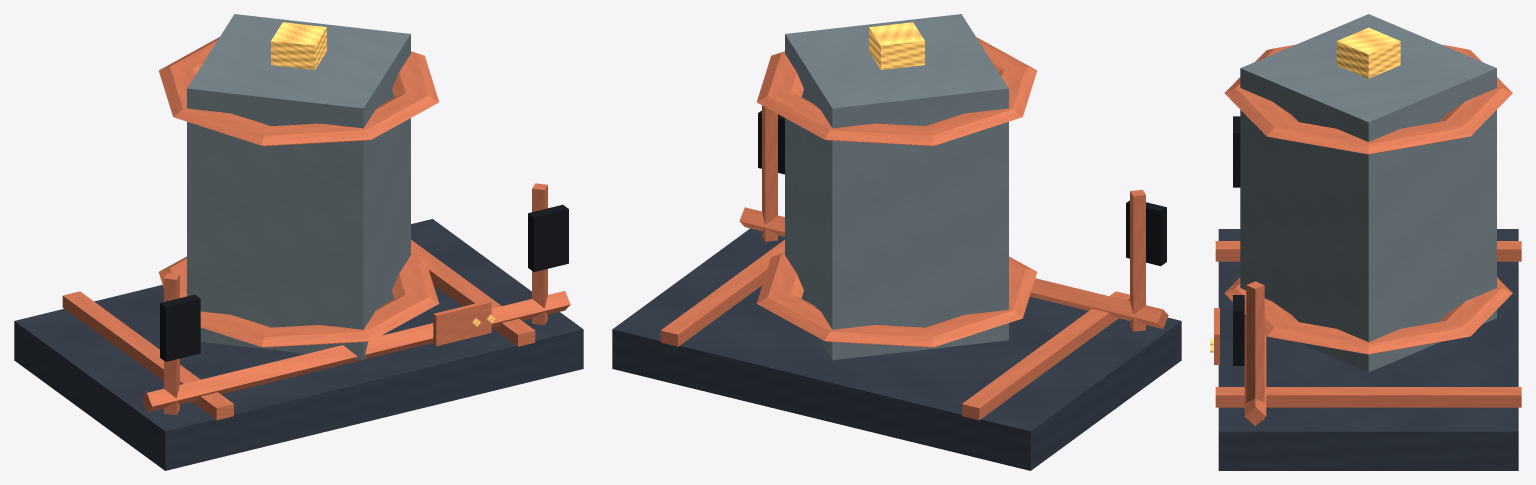
Rendered from atlas100-s021-a06.lod1.glb.
The picture shows the model from 3 angles, left to right: view 1: azimuth 30°, elevation 25°; view 2: azimuth 150°, elevation 25°; view 3: azimuth 270°, elevation 25°; orthographic projection.
Visible parts, largest first — view 1: atlas100-s021-a06:part-003, atlas100-s021-a06:part-000, atlas100-s021-a06:part-005, atlas100-s021-a06:part-004, atlas100-s021-a06:part-012, atlas100-s021-a06:part-001, atlas100-s021-a06:part-002, atlas100-s021-a06:part-009, atlas100-s021-a06:part-011, atlas100-s021-a06:part-006, atlas100-s021-a06:part-013, atlas100-s021-a06:part-008 (+1 smaller); view 2: atlas100-s021-a06:part-003, atlas100-s021-a06:part-000, atlas100-s021-a06:part-005, atlas100-s021-a06:part-004, atlas100-s021-a06:part-001, atlas100-s021-a06:part-012, atlas100-s021-a06:part-002, atlas100-s021-a06:part-006, atlas100-s021-a06:part-008, atlas100-s021-a06:part-010, atlas100-s021-a06:part-009, atlas100-s021-a06:part-011; view 3: atlas100-s021-a06:part-003, atlas100-s021-a06:part-000, atlas100-s021-a06:part-005, atlas100-s021-a06:part-004, atlas100-s021-a06:part-002, atlas100-s021-a06:part-006, atlas100-s021-a06:part-010, atlas100-s021-a06:part-001, atlas100-s021-a06:part-012, atlas100-s021-a06:part-011, atlas100-s021-a06:part-009, atlas100-s021-a06:part-013.
Boxes of the visible parts, bbox=[...] form: atlas100-s021-a06:part-003: bbox=[187, 14, 410, 360]; atlas100-s021-a06:part-000: bbox=[14, 219, 583, 470]; atlas100-s021-a06:part-005: bbox=[158, 37, 438, 146]; atlas100-s021-a06:part-004: bbox=[158, 252, 439, 347]; atlas100-s021-a06:part-012: bbox=[141, 291, 570, 412]; atlas100-s021-a06:part-001: bbox=[62, 291, 233, 420]; atlas100-s021-a06:part-002: bbox=[411, 240, 535, 346]; atlas100-s021-a06:part-009: bbox=[160, 294, 200, 361]; atlas100-s021-a06:part-011: bbox=[528, 204, 568, 271]; atlas100-s021-a06:part-006: bbox=[271, 22, 326, 69]; atlas100-s021-a06:part-013: bbox=[433, 300, 491, 346]; atlas100-s021-a06:part-008: bbox=[164, 273, 179, 415]; atlas100-s021-a06:part-003: bbox=[785, 14, 1008, 360]; atlas100-s021-a06:part-000: bbox=[612, 228, 1181, 470]; atlas100-s021-a06:part-005: bbox=[757, 37, 1037, 146]; atlas100-s021-a06:part-004: bbox=[756, 252, 1037, 347]; atlas100-s021-a06:part-001: bbox=[962, 291, 1129, 420]; atlas100-s021-a06:part-012: bbox=[739, 207, 1168, 328]; atlas100-s021-a06:part-002: bbox=[660, 240, 784, 346]; atlas100-s021-a06:part-006: bbox=[869, 22, 924, 69]; atlas100-s021-a06:part-008: bbox=[1130, 189, 1145, 331]; atlas100-s021-a06:part-010: bbox=[762, 105, 777, 241]; atlas100-s021-a06:part-009: bbox=[1126, 200, 1166, 265]; atlas100-s021-a06:part-011: bbox=[758, 110, 784, 174]; atlas100-s021-a06:part-003: bbox=[1240, 14, 1496, 372]; atlas100-s021-a06:part-000: bbox=[1218, 229, 1518, 470]; atlas100-s021-a06:part-005: bbox=[1224, 44, 1512, 154]; atlas100-s021-a06:part-004: bbox=[1224, 277, 1512, 354]; atlas100-s021-a06:part-002: bbox=[1215, 387, 1521, 407]; atlas100-s021-a06:part-006: bbox=[1336, 27, 1400, 78]; atlas100-s021-a06:part-010: bbox=[1246, 281, 1264, 420]; atlas100-s021-a06:part-001: bbox=[1215, 241, 1521, 261]; atlas100-s021-a06:part-012: bbox=[1244, 316, 1266, 426]; atlas100-s021-a06:part-011: bbox=[1233, 295, 1244, 365]; atlas100-s021-a06:part-009: bbox=[1233, 116, 1240, 187]; atlas100-s021-a06:part-013: bbox=[1214, 308, 1219, 364].
Bounding box in the file's own units: 2.88 × 2.18 × 1.87.
5 materials, 5 textured.
